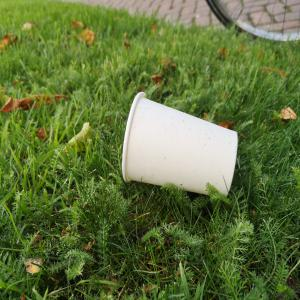Cup: (121, 90, 242, 203)
